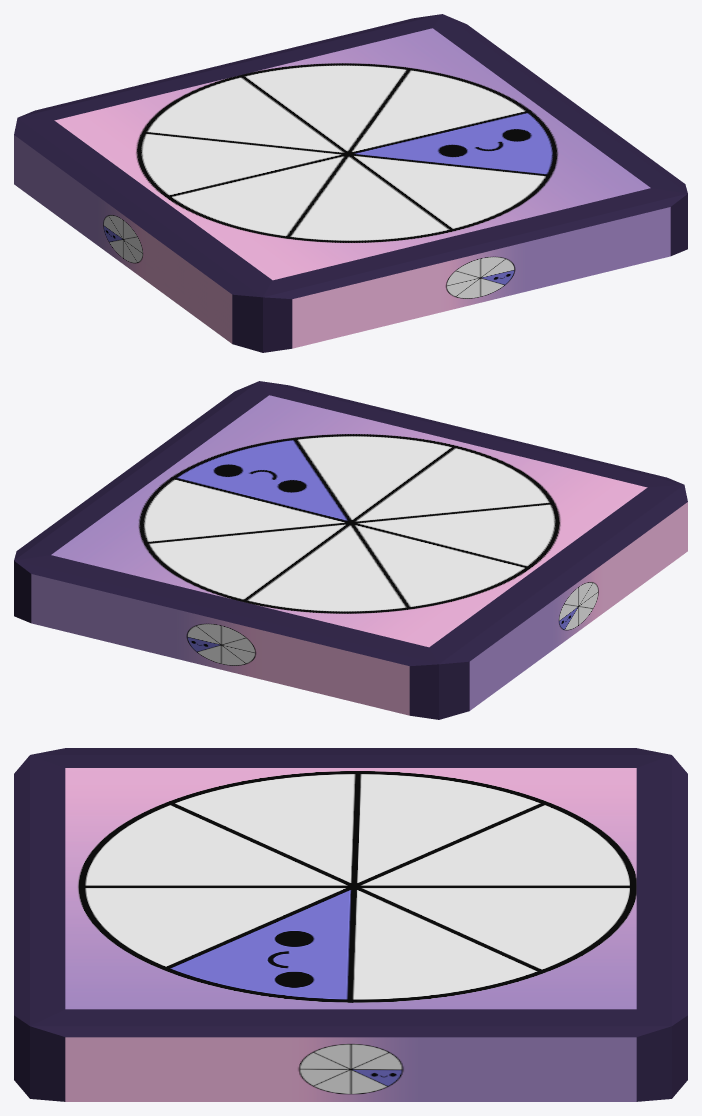
Rendered from Fracciones un octavo.fbx.
3 renders of one model, top to bottom at view 1: azimuth 30°, elevation 25°; view 2: azimuth 150°, elevation 25°; view 3: azimuth 270°, elevation 25°, orthographic. The views are drawn at different scales.
Visible parts, largest first — view 1: 1/8; view 2: 1/8; view 3: 1/8.
Part boxes in pixels (x1,y1,x2,y2): 1/8: (14, 14, 687, 352); 1/8: (14, 381, 687, 719); 1/8: (14, 748, 687, 1101).
Size of the model in its own units: 213 by 26.25 by 210.
2 materials, 1 textured.
